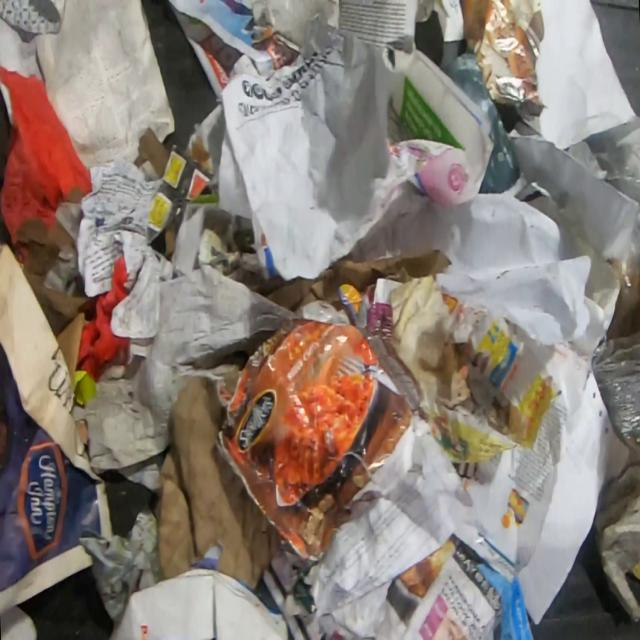cardboard: (212, 318, 424, 570), (156, 375, 283, 593), (439, 50, 528, 200), (16, 216, 92, 390), (132, 127, 213, 255)
soft_plastic: (578, 315, 640, 484), (582, 114, 640, 203)
